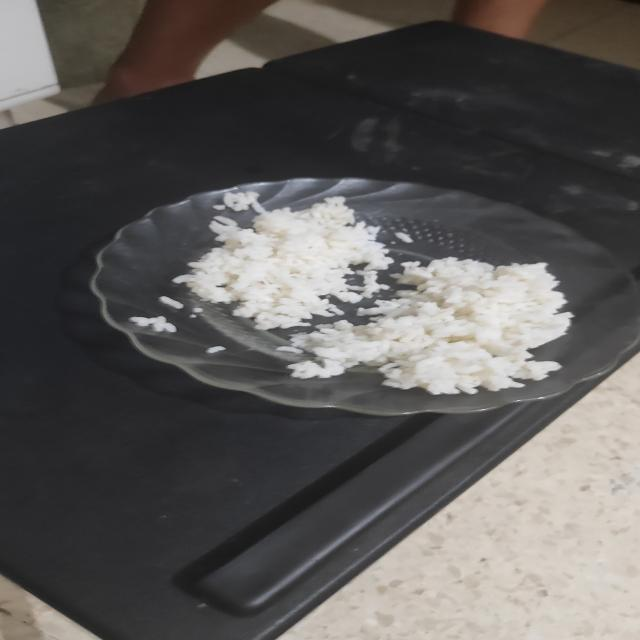nasi_putih: (289, 258, 573, 394), (174, 197, 390, 331)
